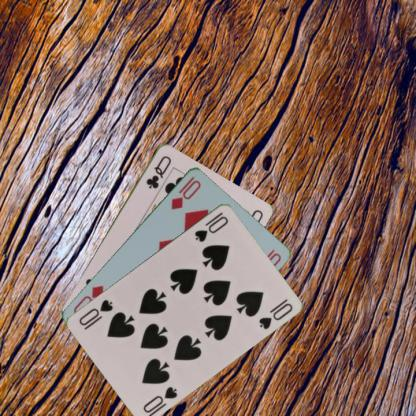10d: (168, 177, 202, 211)
10s: (192, 209, 230, 243), (141, 383, 179, 414)
Qc: (142, 153, 172, 190)
